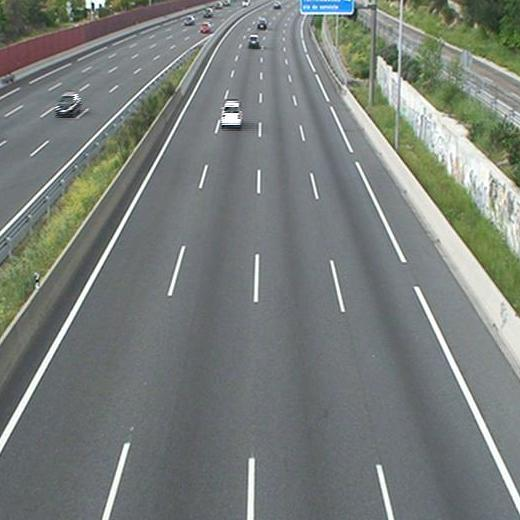car: (221, 101, 243, 126), (248, 35, 259, 47), (257, 18, 268, 29), (272, 1, 281, 8)
